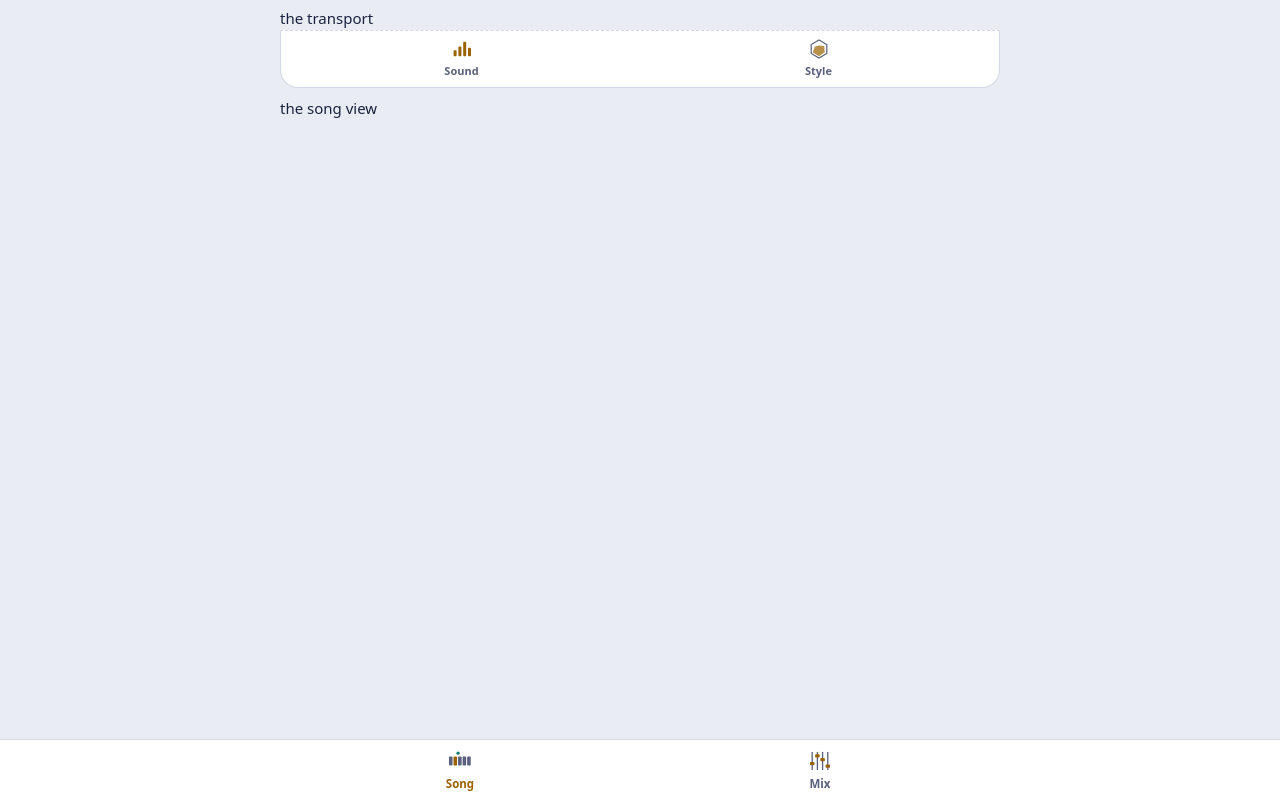
Test: the shell › drops a section’s sheet when its rider is tapped, one at a time, and takes it up on a second tap
Click the button "Sound" at (462, 58), box [283,33,640,83]
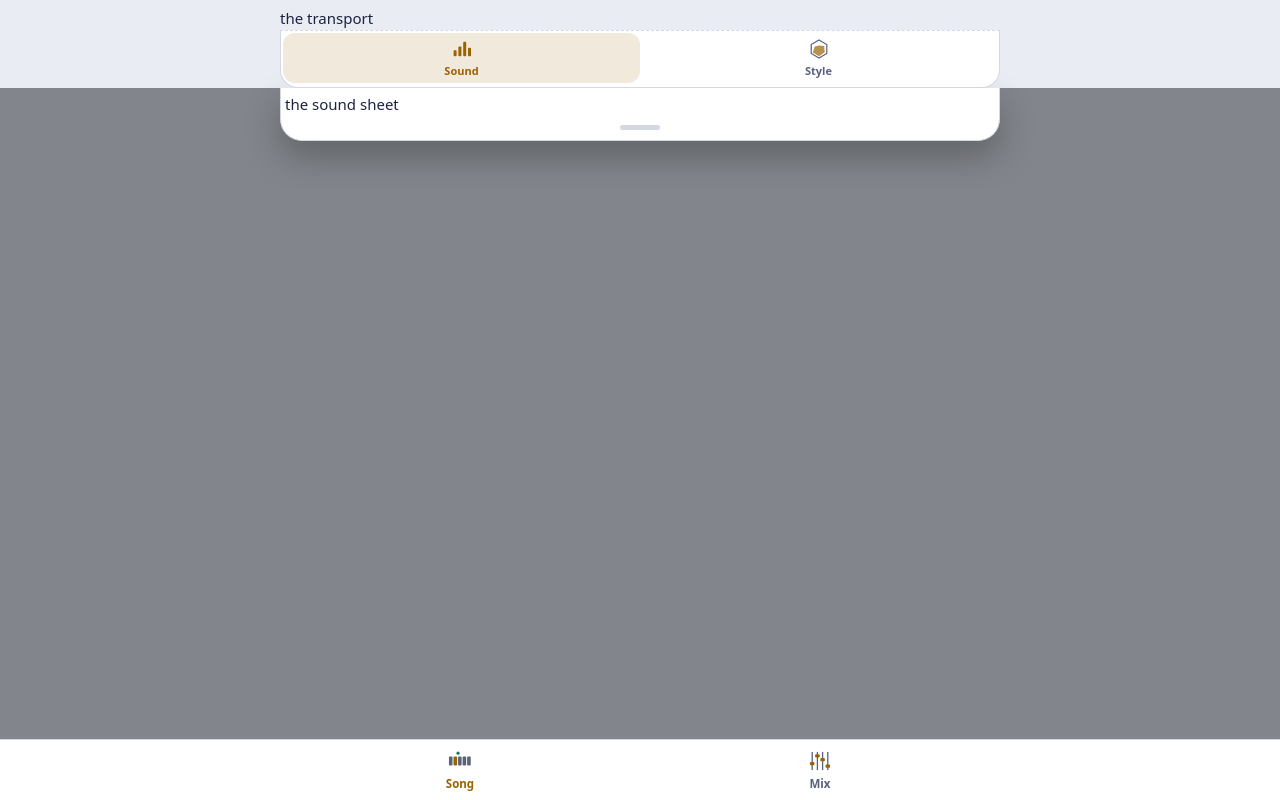
Check: the button "Sound" is expanded, box [283,33,640,83]
Check: the text "the sound sheet" is shown, box [285,94,399,114]
Click the button "Style" at (818, 58), box [640,33,997,83]
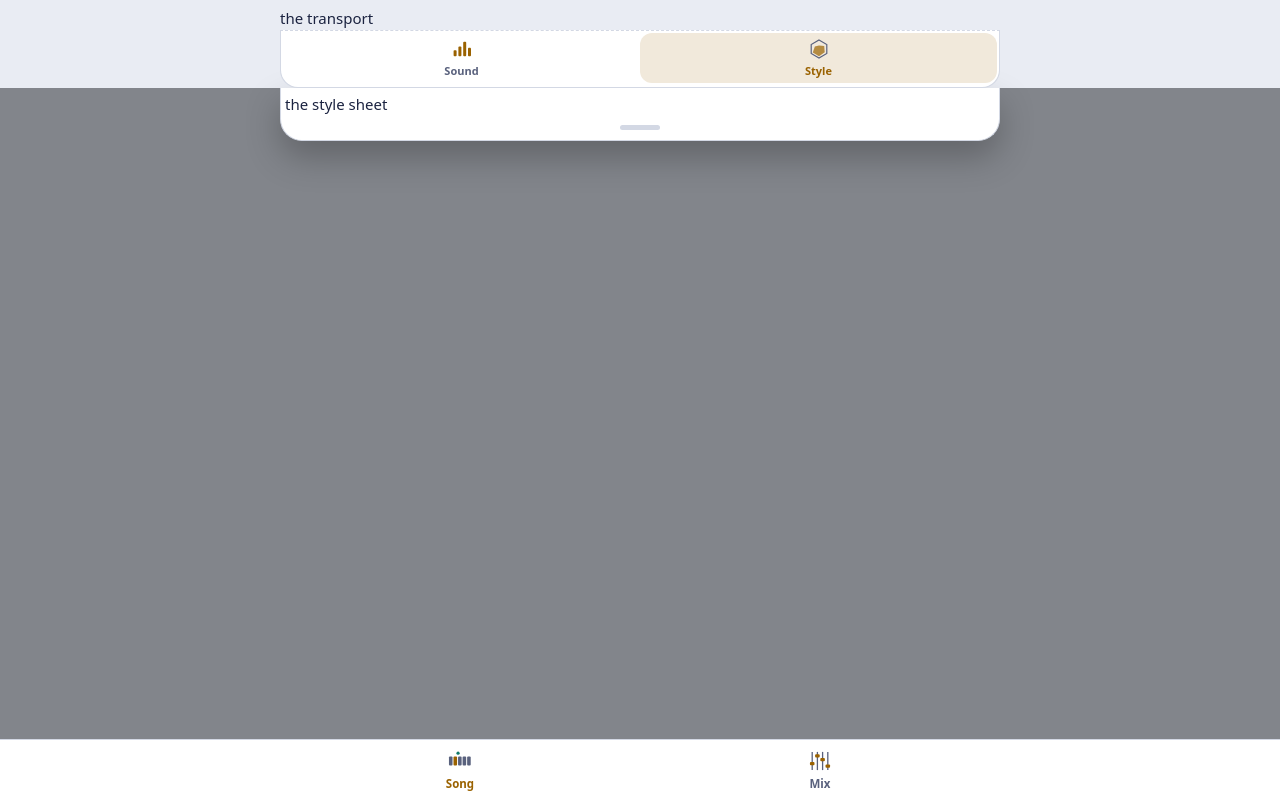
Check: the text "the sound sheet" is gone
Check: the text "the style sheet" is shown, box [285,94,387,114]
Click the button "Style" at (818, 58), box [640,33,997,83]
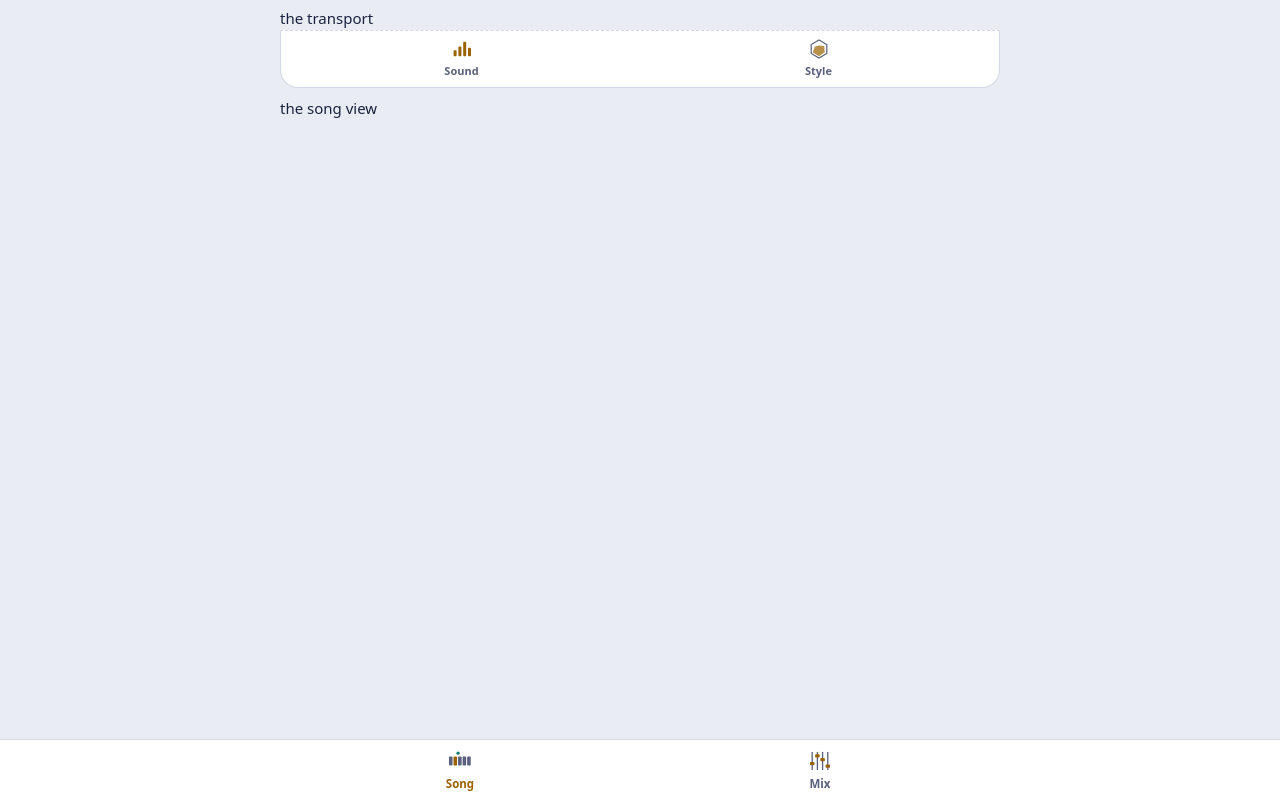
Check: the text "the style sheet" is gone
